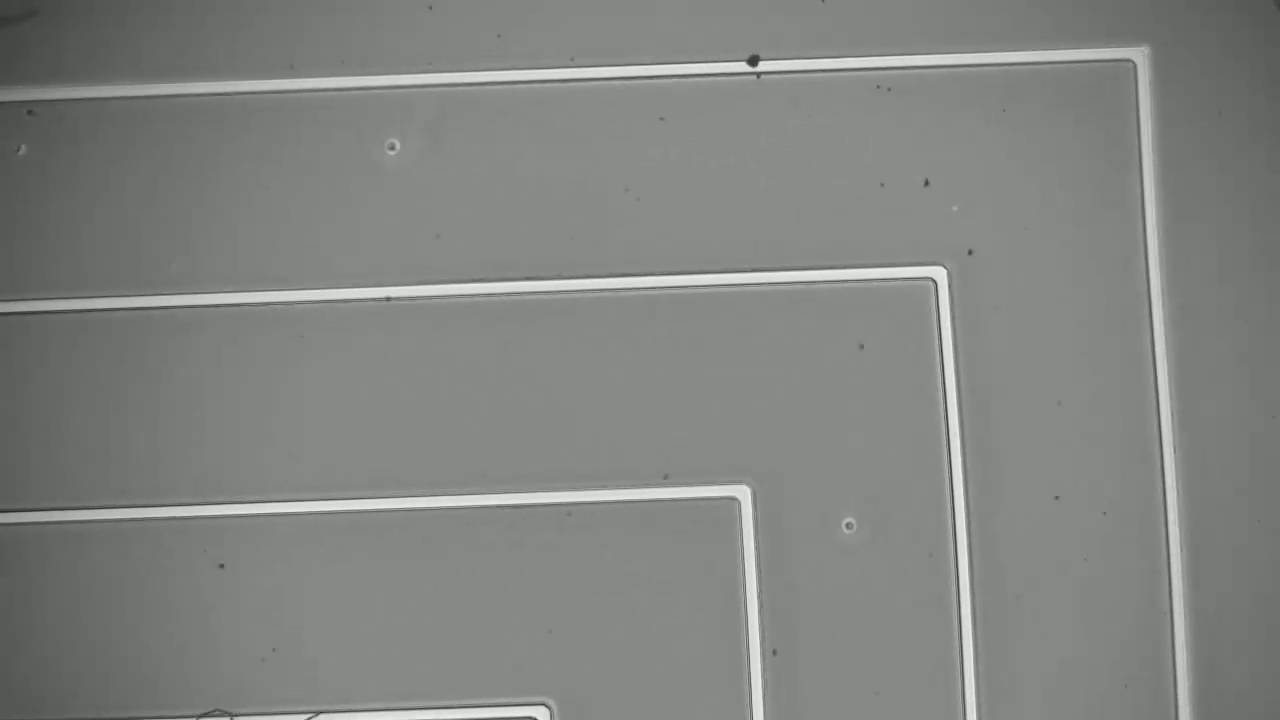stains_enbedded: (741, 53, 771, 82)
